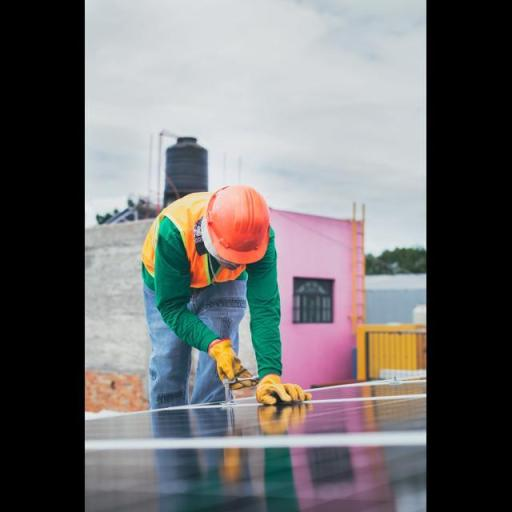Person: (97, 155, 342, 435)
gloves: (245, 355, 324, 416), (202, 329, 255, 398)
helmet: (195, 172, 277, 270)
vest: (126, 183, 280, 308)
